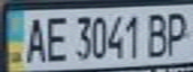0: (90, 11, 109, 61)
1: (121, 10, 145, 60)
3: (69, 11, 93, 61)
4: (106, 11, 127, 60)
A: (21, 12, 48, 64)
B: (142, 9, 172, 57)
E: (42, 12, 69, 63)
P: (163, 8, 193, 56)
